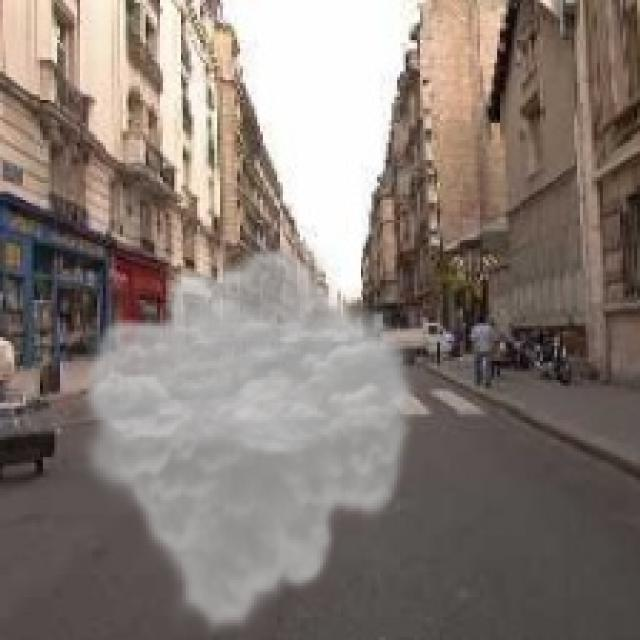Smoke: (74, 242, 423, 638)
